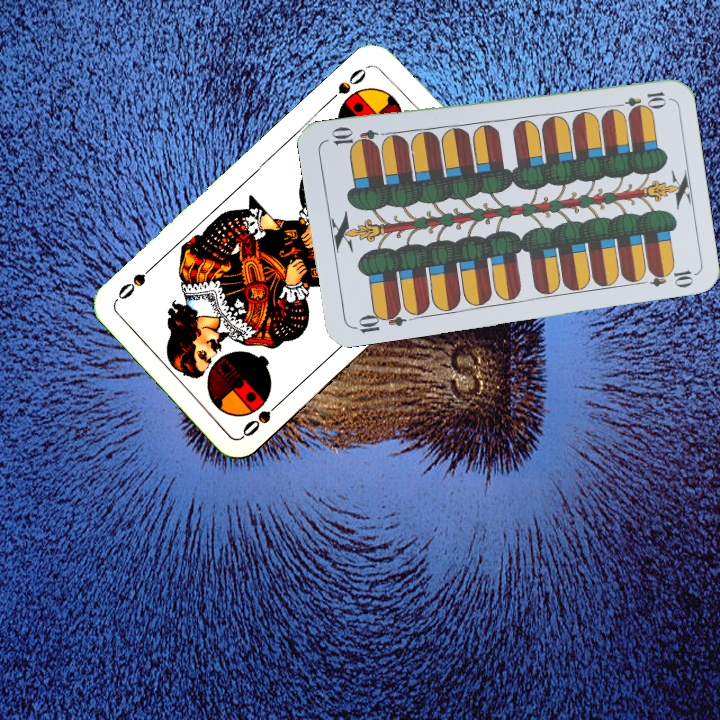E10: (349, 304, 408, 336), (610, 87, 669, 112)
SO: (238, 395, 286, 440), (333, 61, 373, 97)
